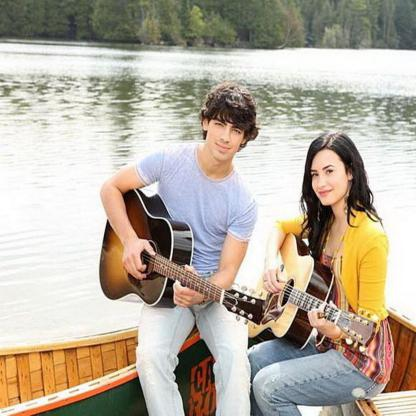face: (210, 101, 248, 162), (312, 153, 347, 206)
